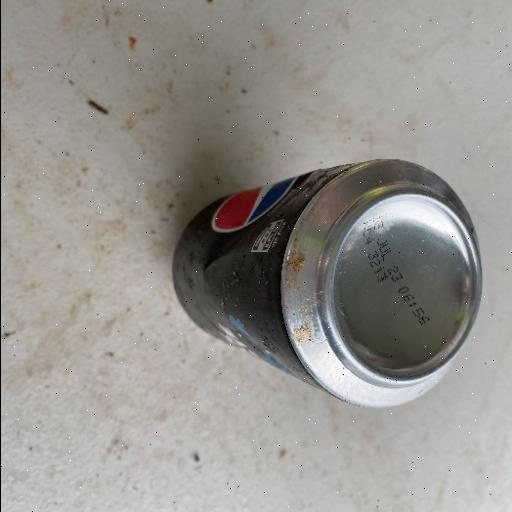Metal: (170, 156, 484, 410)
